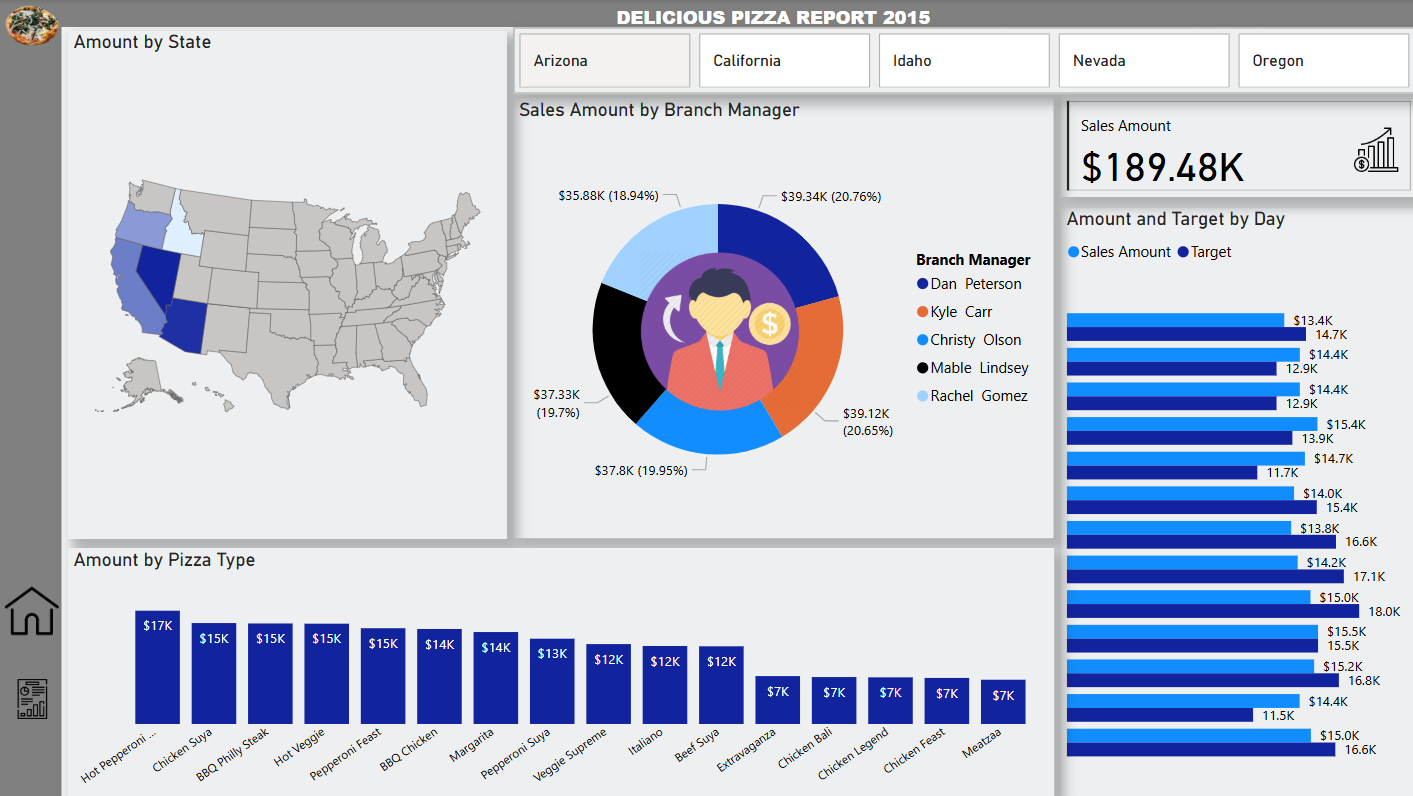

This screenshot's page, from the dashboard's own definition file:
{"tool":"powerbi","page":{"name":"Report","canvas":[1280,720],"ordinal":1},"visuals":[{"type":"shape","box":[0,0,59,719.1],"z":0},{"type":"shape","box":[0,0,1280.5,25.2],"z":1000},{"type":"image","box":[0,0,64.6,48.8],"z":2000},{"type":"image","box":[9.6,598.3,46.7,64.5],"z":3000},{"type":"image","box":[0,521.5,64.5,59],"z":4000},{"type":"textbox","box":[554.2,0,306.8,37.8],"z":5000},{"type":"cardVisual","fields":{"Data":["Sum(Sales.Sales Amount)"]},"box":[959.7,86.5,320.4,91.9],"z":6000},{"type":"donutChart","title":"Sales Amount by Branch Manager","fields":{"Category":["Branch Data.Branch Manager"],"Y":["Sum(Sales.Sales Amount)"]},"box":[466.2,89.8,486.7,396.9],"z":7000},{"type":"shapeMap","title":"Amount by State","fields":{"Value":["Sum(Sales.Sales Amount)"],"Category":["Branch Data.Branch"]},"box":[64.6,28.4,395.3,458.3],"z":8000},{"type":"image","box":[570.2,222.1,163.8,155.9],"z":9000},{"type":"advancedSlicerVisual","title":"Sales Amount by Branch Manager","fields":{"Values":["Branch Data.Branch"]},"box":[466.2,25.2,814.3,59.9],"z":10000},{"type":"clusteredBarChart","title":"Amount and Target by Day","fields":{"Category":["Daily Target.Day.Variation.Date Hierarchy.Day"],"Y":["Sum(Sales.Sales Amount)","Sum(Daily Target.Target)"]},"box":[959.7,187.9,320.4,532.6],"z":11000},{"type":"columnChart","title":"Amount by Pizza Type","fields":{"Y":["Sum(Sales.Sales Amount)"],"Category":["Sales.Pizza Type"]},"box":[64.6,494.6,888.3,225.2],"z":12000}]}

Visuals, with their boxes on the page's 1280x720 design canvas (x1, y1, x2, y2). These are canvas units, not pixel positions in the 1413x796 screenshot, which may show the page scaled, cropped or inside an application window:
shape: [0, 0, 59, 719]
shape: [0, 0, 1280, 25]
image: [0, 0, 65, 49]
image: [10, 598, 56, 663]
image: [0, 522, 64, 580]
textbox: [554, 0, 861, 38]
cardVisual - Sum(Sales.Sales Amount): [960, 86, 1280, 178]
"Sales Amount by Branch Manager" donutChart: [466, 90, 953, 487]
"Amount by State" shapeMap: [65, 28, 460, 487]
image: [570, 222, 734, 378]
"Sales Amount by Branch Manager" advancedSlicerVisual: [466, 25, 1280, 85]
"Amount and Target by Day" clusteredBarChart: [960, 188, 1280, 720]
"Amount by Pizza Type" columnChart: [65, 495, 953, 720]
